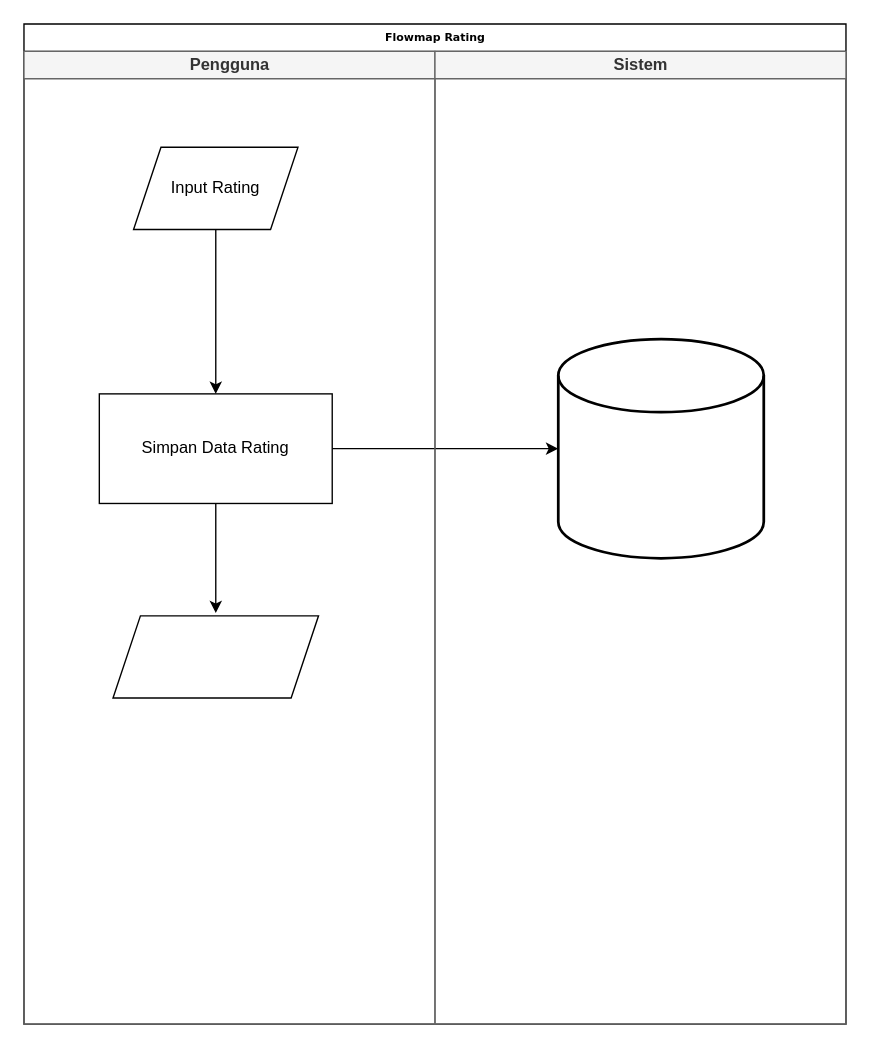
This 870x1048 diagram has some shape labels left out. Here are the shapes that lost their labels. From the top down, the centre of each, then its label:
At point 660,448: "ecosphera".
At point 215,656: "Data Rating".
